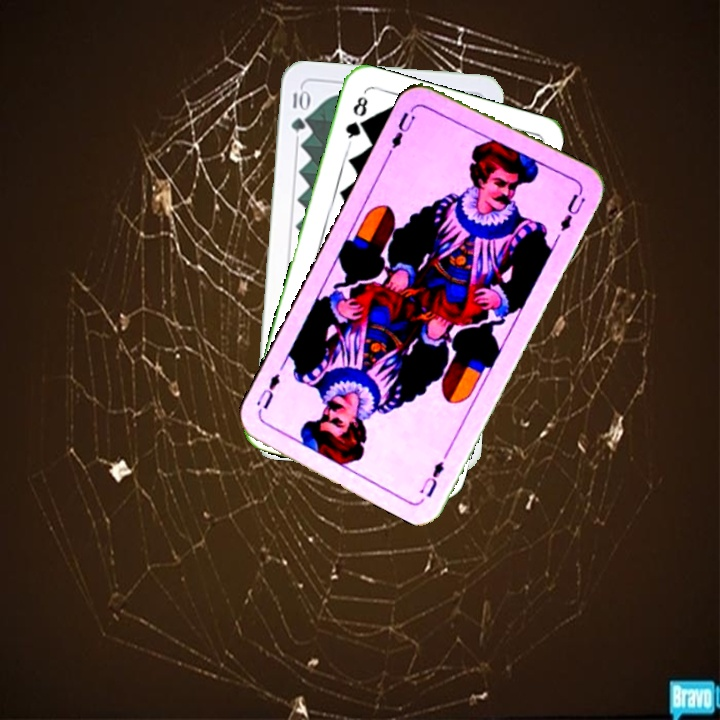EU: (382, 108, 418, 158), (415, 457, 447, 500)
G10: (287, 85, 309, 135)
G8: (341, 92, 371, 147)
